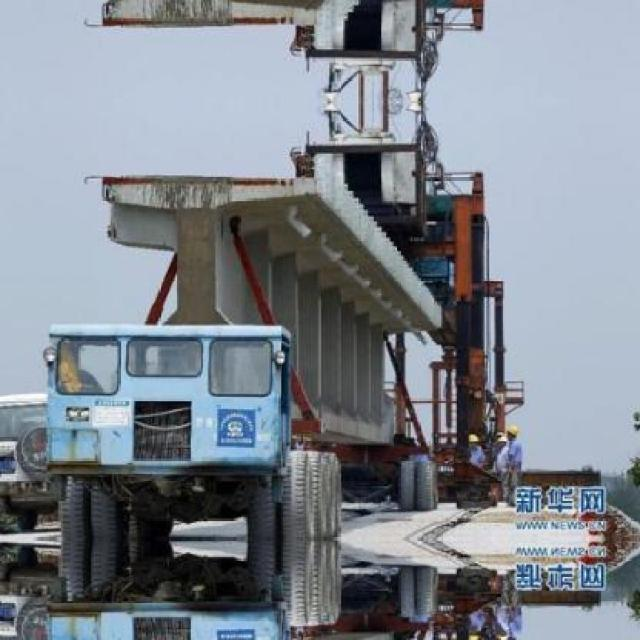helmet: (466, 429, 480, 451), (506, 422, 520, 442), (465, 624, 480, 638), (505, 632, 520, 638)
